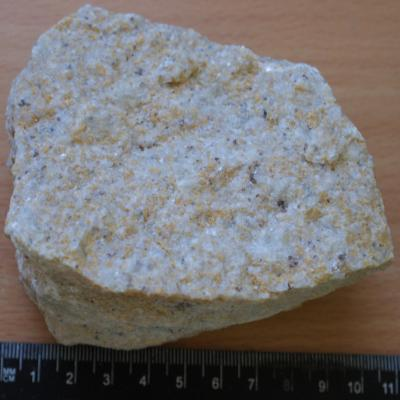mineralogy: (4, 6, 394, 352)
